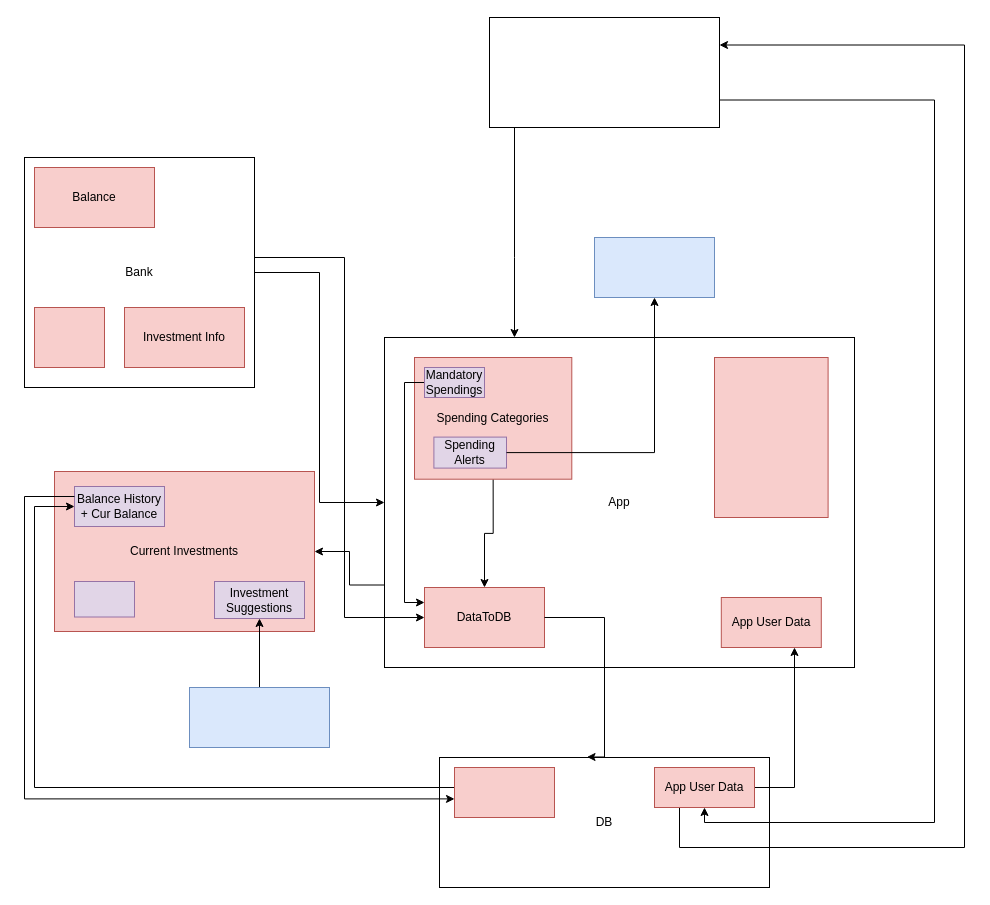
The diagram is 990 pixels wide and 905 high, and some of its shapes have lost their labels. The centre of each missing label's shape, as x and y in pixels:
Future Projection: (x=104, y=598)
History And Data: (x=504, y=792)
Login MD5: (x=604, y=72)
Spending Email\Phone Alerts: (x=654, y=267)
Stocks API: (x=259, y=717)
Top Stocks, Mutual Fund, S&P 500: (x=771, y=437)
Transactions: (x=69, y=337)
